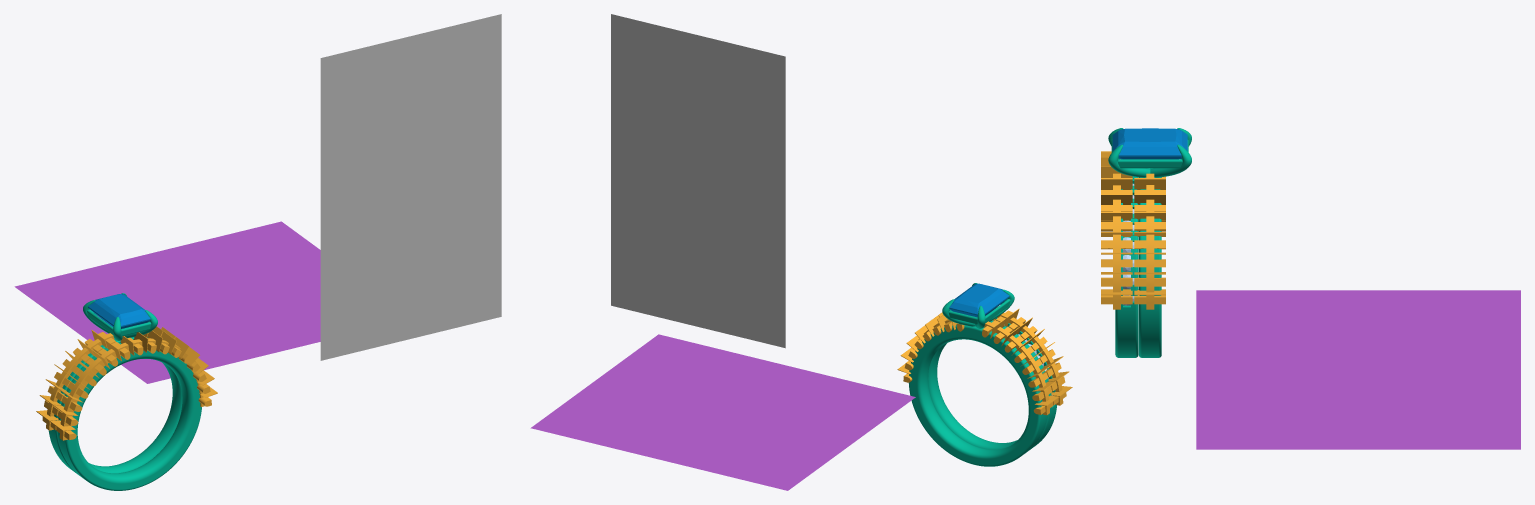
3 views of the same model, side by side, from view 1: azimuth 30°, elevation 25°; view 2: azimuth 150°, elevation 25°; view 3: azimuth 270°, elevation 25° (orthographic). The views are drawn at different scales.
Visible parts, largest first — view 1: VR773(front).3dm, Channel Cutter (×2), Diamond_Radiant; view 2: VR773(front).3dm, Channel Cutter (×2), Diamond_Radiant; view 3: VR773(front).3dm, Diamond_Radiant, Channel Cutter (×2).
Boxes of the visible parts, x1,y1,x2,y2 form: VR773(front).3dm: (14,14,501,490); Channel Cutter (×2): (46,333,204,440); Diamond_Radiant: (88,294,150,328); VR773(front).3dm: (530,14,1056,490); Channel Cutter (×2): (984,313,1063,415); Diamond_Radiant: (949,283,1009,317); VR773(front).3dm: (1108,128,1520,449); Diamond_Radiant: (1112,128,1187,159); Channel Cutter (×2): (1113,173,1154,309).
Bounding box in the file's own units: 8.18 × 6.34 × 5.31.
